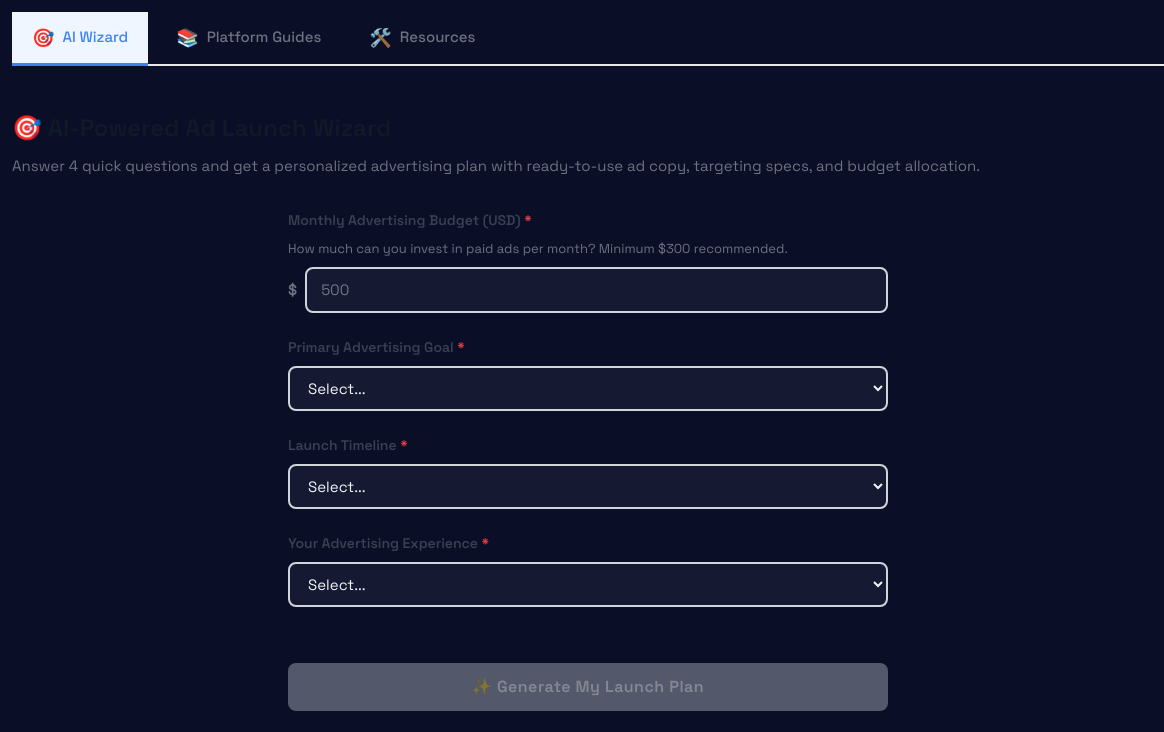
PaidAdsLaunchMiniApp › Form Validation › should validate minimum budget is 300
The image size is (1164, 732).
Note: Test boundary: 299 should be invalid
Type "299" into the number field labelled "Monthly Advertising Budget (USD) *" at (597, 290), box [305, 266, 888, 313]
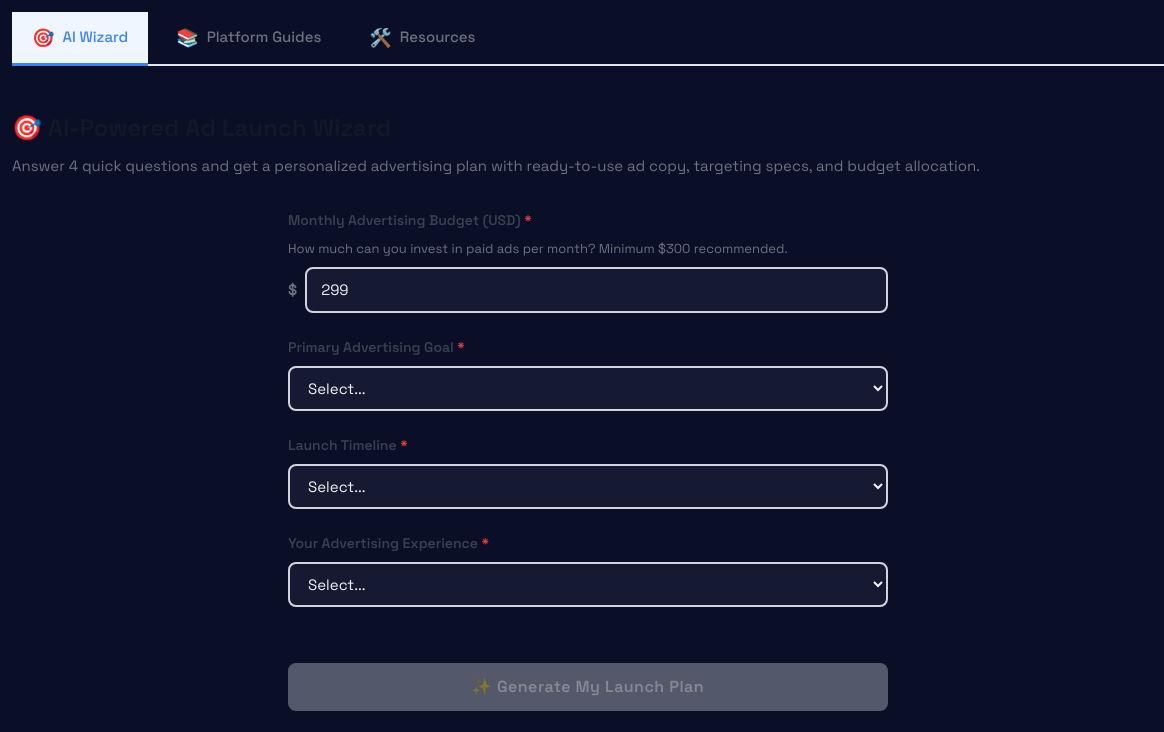
Expected: the button with class "btn-generate" is disabled, [288, 663, 888, 711]
Note: Test boundary: 300 should be valid (with other fields)
Replace the text in the number field labelled "Monthly Advertising Budget (USD) *" with "300" at (597, 290), box [305, 266, 888, 313]
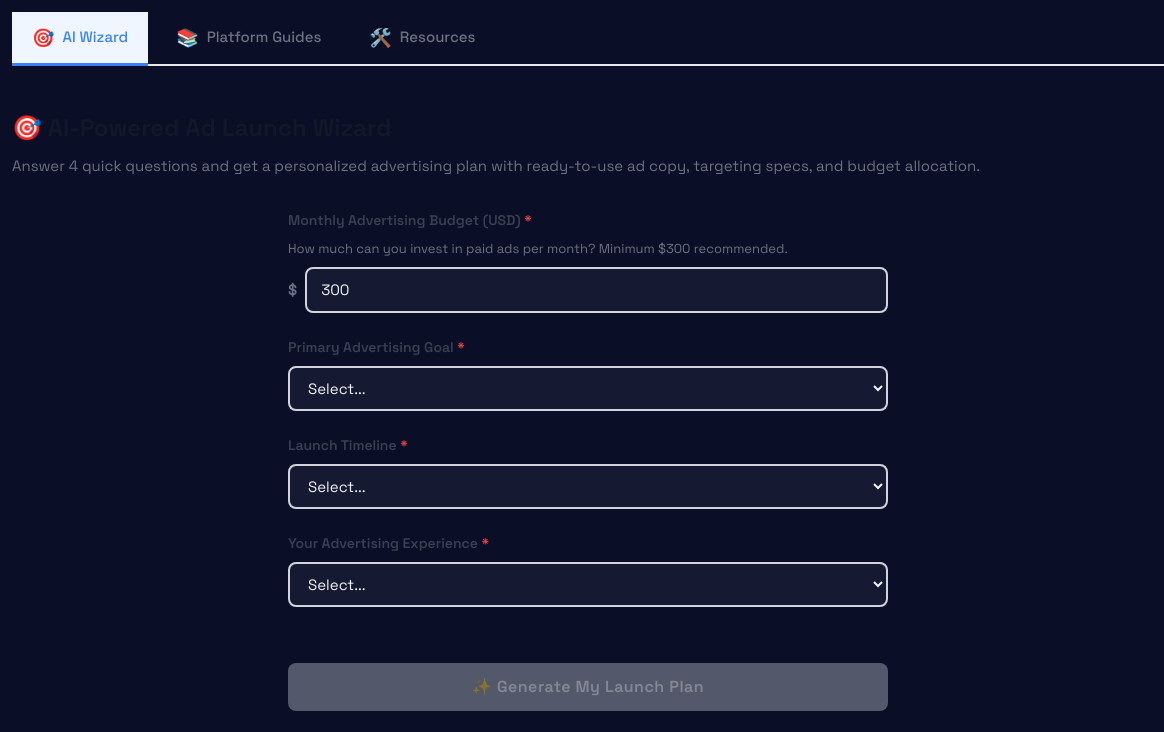
Select "Brand Awareness" in the dropdown labelled "Primary Advertising Goal *" at (588, 388), box [288, 366, 888, 411]
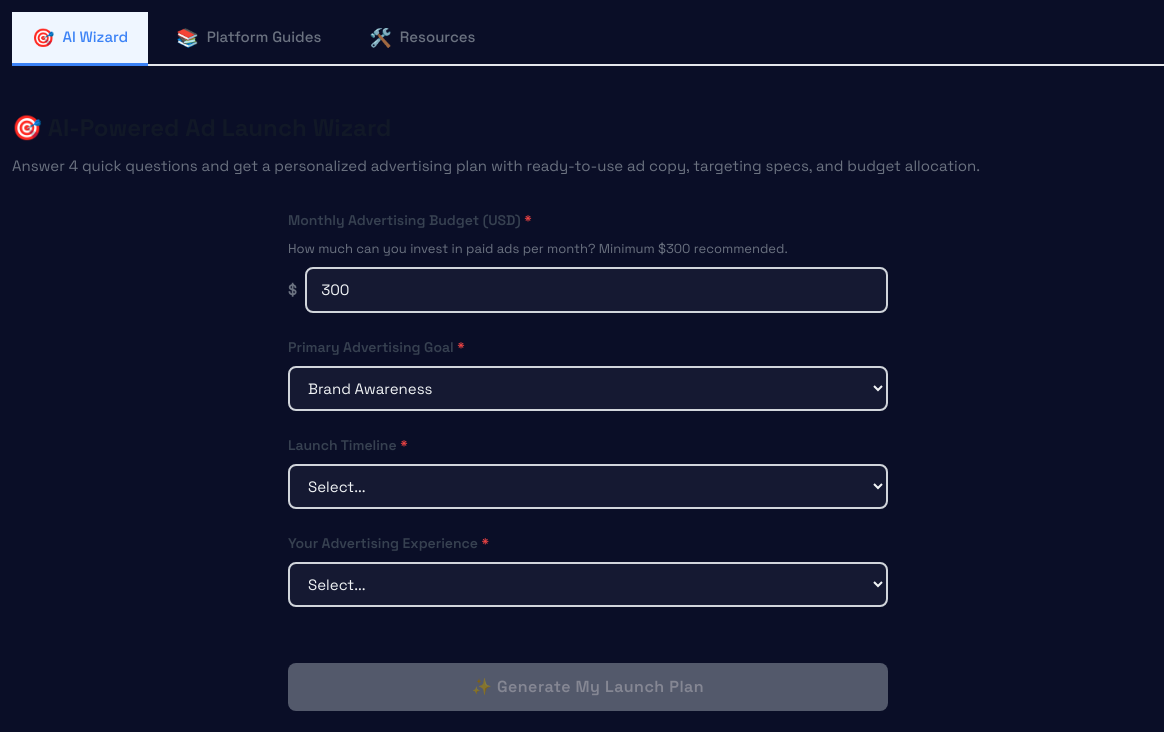
Select "ASAP (This week)" in the dropdown labelled "Launch Timeline *" at (588, 486), box [288, 464, 888, 509]
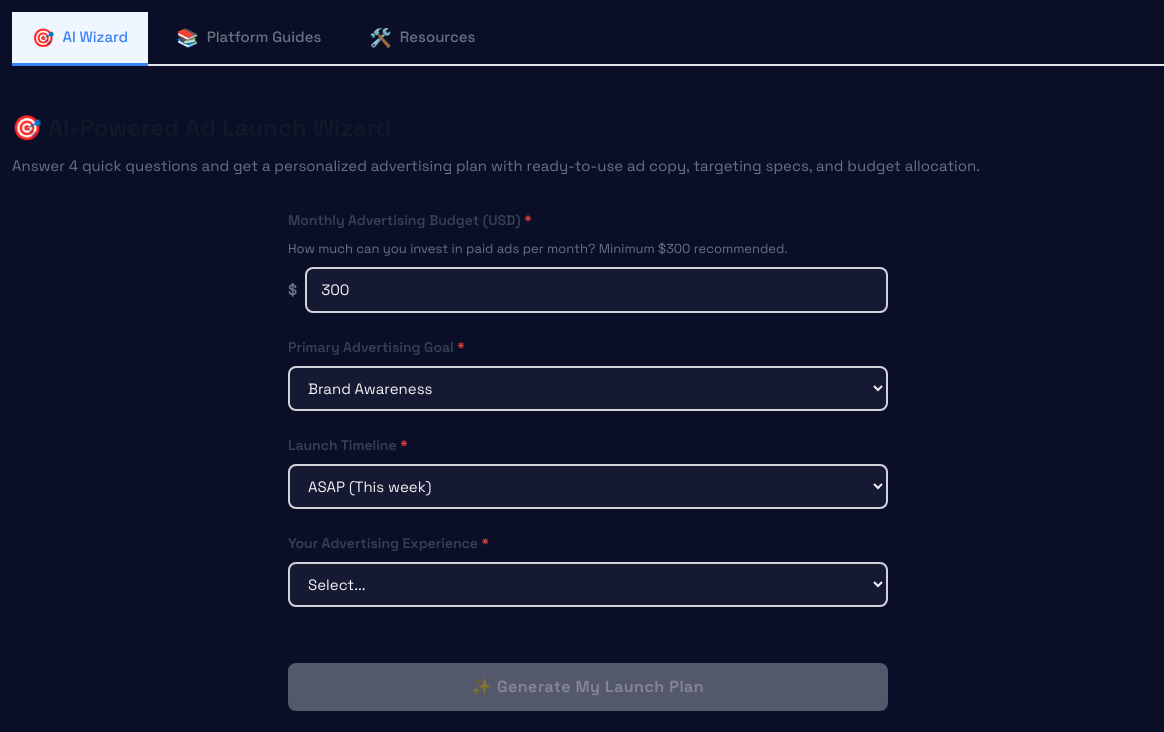
Select "None (Never run ads before)" in the dropdown labelled "Your Advertising Experience *" at (588, 584), box [288, 562, 888, 607]
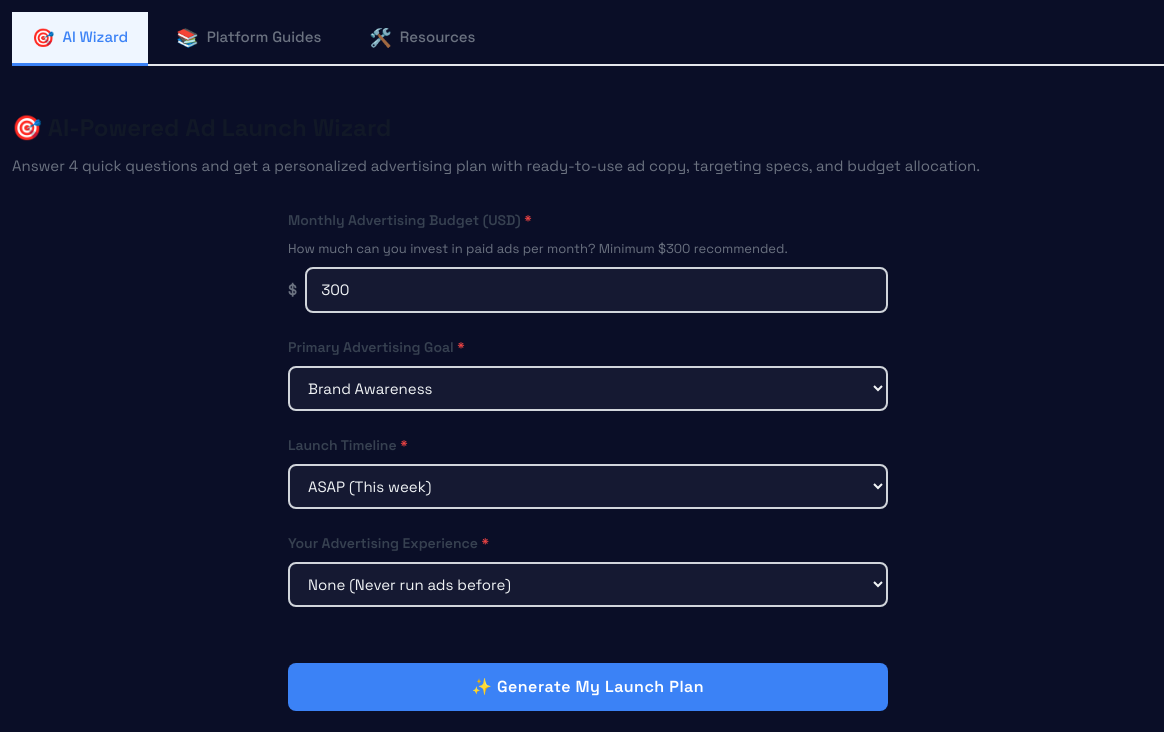
Result: the button with class "btn-generate" is enabled at [288, 663, 888, 711]
